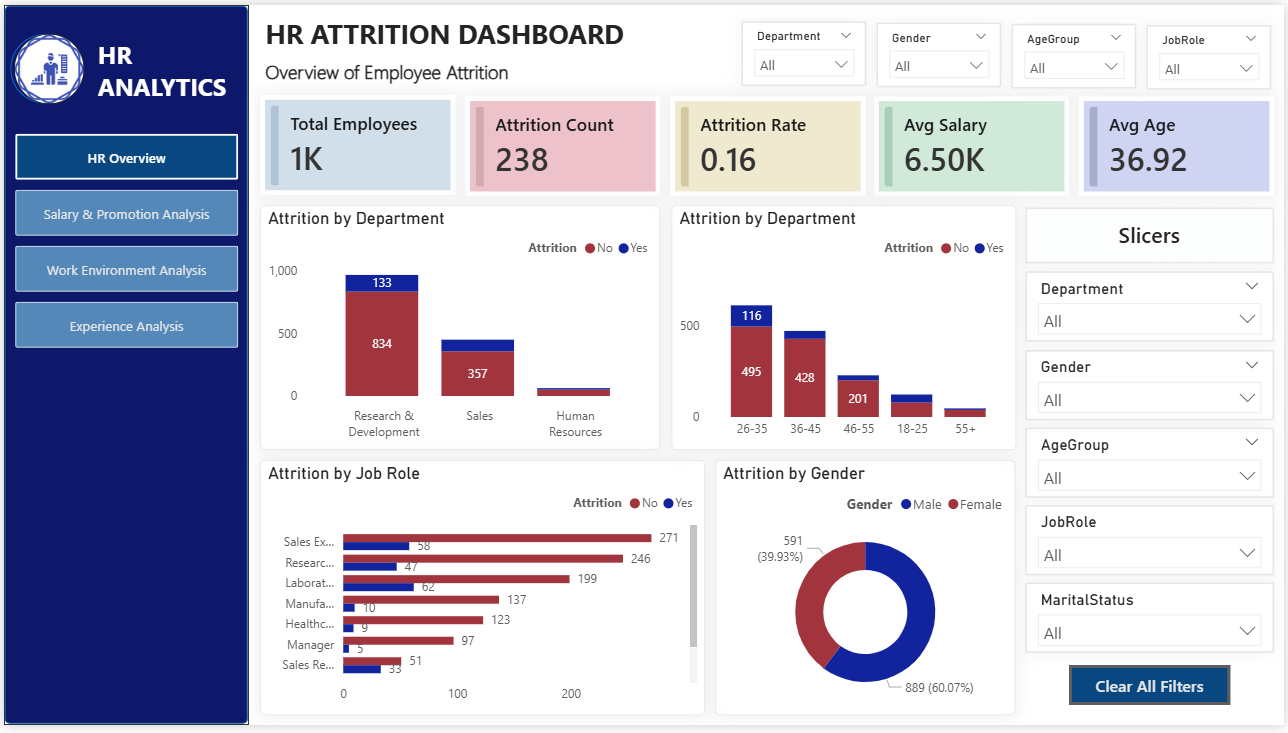

What the dashboard file says about the page in this screenshot:
{"tool":"powerbi","page":{"name":"HR Overview","canvas":[1280,720],"ordinal":0},"visuals":[{"type":"shape","box":[0,0,245,720],"z":0},{"type":"textbox","box":[256.2,5,383.8,46.2],"z":1000},{"type":"textbox","box":[256.2,48.8,313.8,41.2],"z":2000},{"type":"cardVisual","fields":{"Data":["HR_Analytics.Total Employees"]},"box":[256.2,90,195,100],"z":3000},{"type":"cardVisual","fields":{"Data":["HR_Analytics.Attrition Count"]},"box":[460.9,91.2,195,100],"z":4000},{"type":"cardVisual","fields":{"Data":["HR_Analytics.Avg Salary"]},"box":[870.3,91.2,195,100],"z":5000},{"type":"cardVisual","fields":{"Data":["HR_Analytics.Avg Age"]},"box":[1075,91.2,195,100],"z":6000},{"type":"cardVisual","fields":{"Data":["HR_Analytics.Attrition Rate"]},"box":[665.6,91.2,195,100],"z":7000},{"type":"columnChart","title":"Attrition by Department","fields":{"Category":["HR_Analytics.Department"],"Y":["CountNonNull(HR_Analytics.EmpID)"],"Series":["HR_Analytics.Attrition"]},"box":[256,200,400,245],"z":8000},{"type":"donutChart","title":"Attrition by Gender","fields":{"Category":["HR_Analytics.Gender"],"Y":["CountNonNull(HR_Analytics.EmpID)"]},"box":[711,455,300,255],"z":9000},{"type":"clusteredBarChart","title":"Attrition by Job Role","fields":{"Category":["HR_Analytics.JobRole"],"Y":["CountNonNull(HR_Analytics.EmpID)"],"Series":["HR_Analytics.Attrition"]},"box":[256,455,445,255],"z":10000},{"type":"slicer","fields":{"Values":["HR_Analytics.Department"]},"box":[1021.2,266.2,248.8,70],"z":11000},{"type":"slicer","fields":{"Values":["HR_Analytics.AgeGroup"]},"box":[1021.2,422.5,248.8,70],"z":12000},{"type":"slicer","fields":{"Values":["HR_Analytics.JobRole"]},"box":[1021.2,500,248.8,70],"z":13000},{"type":"slicer","fields":{"Values":["HR_Analytics.Gender"]},"box":[1021.2,345,248.8,70],"z":14000},{"type":"slicer","fields":{"Values":["HR_Analytics.MaritalStatus"]},"box":[1021.2,577.5,248.8,70],"z":15000},{"type":"textbox","box":[1021.2,202.5,248.8,56.2],"z":16000},{"type":"columnChart","title":"Attrition by Department","fields":{"Category":["HR_Analytics.AgeGroup"],"Y":["CountNonNull(HR_Analytics.EmpID)"],"Series":["HR_Analytics.Attrition"]},"box":[667.2,200,345,245],"z":17000},{"type":"slicer","fields":{"Values":["HR_Analytics.Department"]},"box":[737.5,15.7,125,65],"z":18000},{"type":"slicer","fields":{"Values":["HR_Analytics.AgeGroup"]},"box":[1007.3,18.4,125,65],"z":19000},{"type":"slicer","fields":{"Values":["HR_Analytics.JobRole"]},"box":[1142.2,19.7,125,65],"z":20000},{"type":"slicer","fields":{"Values":["HR_Analytics.Gender"]},"box":[872.4,17.1,125,65],"z":21000},{"type":"textbox","box":[89,28.7,150,76.2],"z":22000},{"type":"pageNavigator","box":[11.2,128.8,223.8,216.2],"z":23000},{"type":"shape","box":[6.2,28.8,70,70],"z":24000},{"type":"image","box":[10.2,28.7,70,70],"z":25000},{"type":"actionButton","box":[1065,660,161.2,40],"z":26000}]}

Visuals, with their boxes in screenshot pixels (x1, y1, x2, y2), scaled from the page's 1280x720 canvas onto the 1288x733 screenshot:
shape: box=[0, 0, 247, 732]
textbox: box=[258, 5, 644, 52]
textbox: box=[258, 50, 574, 92]
cardVisual - HR_Analytics.Total Employees: box=[258, 92, 454, 193]
cardVisual - HR_Analytics.Attrition Count: box=[464, 93, 660, 195]
cardVisual - HR_Analytics.Avg Salary: box=[876, 93, 1072, 195]
cardVisual - HR_Analytics.Avg Age: box=[1082, 93, 1278, 195]
cardVisual - HR_Analytics.Attrition Rate: box=[670, 93, 866, 195]
"Attrition by Department" columnChart: box=[258, 204, 660, 453]
"Attrition by Gender" donutChart: box=[715, 463, 1017, 723]
"Attrition by Job Role" clusteredBarChart: box=[258, 463, 705, 723]
slicer - HR_Analytics.Department: box=[1028, 271, 1278, 342]
slicer - HR_Analytics.AgeGroup: box=[1028, 430, 1278, 501]
slicer - HR_Analytics.JobRole: box=[1028, 509, 1278, 580]
slicer - HR_Analytics.Gender: box=[1028, 351, 1278, 422]
slicer - HR_Analytics.MaritalStatus: box=[1028, 588, 1278, 659]
textbox: box=[1028, 206, 1278, 263]
"Attrition by Department" columnChart: box=[671, 204, 1019, 453]
slicer - HR_Analytics.Department: box=[742, 16, 868, 82]
slicer - HR_Analytics.AgeGroup: box=[1014, 19, 1139, 85]
slicer - HR_Analytics.JobRole: box=[1149, 20, 1275, 86]
slicer - HR_Analytics.Gender: box=[878, 17, 1004, 84]
textbox: box=[90, 29, 240, 107]
pageNavigator: box=[11, 131, 236, 351]
shape: box=[6, 29, 77, 101]
image: box=[10, 29, 81, 100]
actionButton: box=[1072, 672, 1234, 713]
